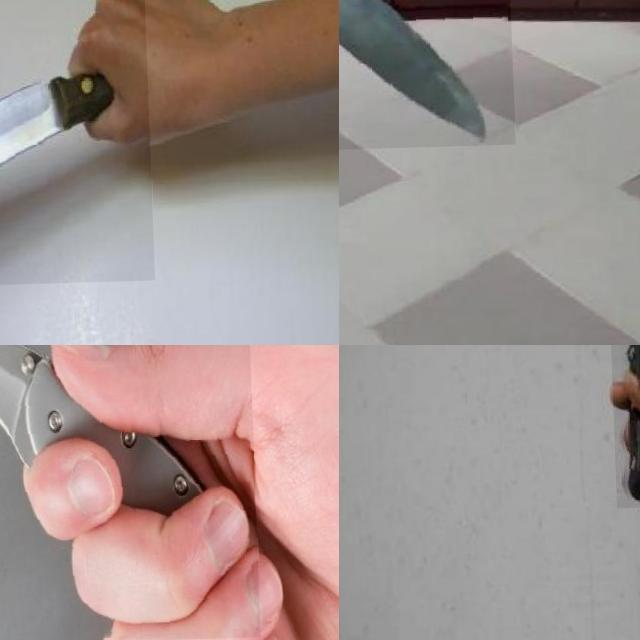-: (0, 345, 257, 640), (0, 0, 198, 292), (339, 0, 512, 152), (606, 345, 640, 510)
